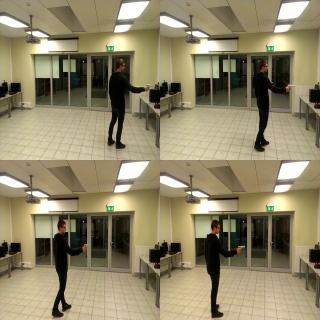gun: (286, 80, 296, 94), (236, 243, 246, 254), (144, 81, 154, 91), (80, 242, 90, 252)
